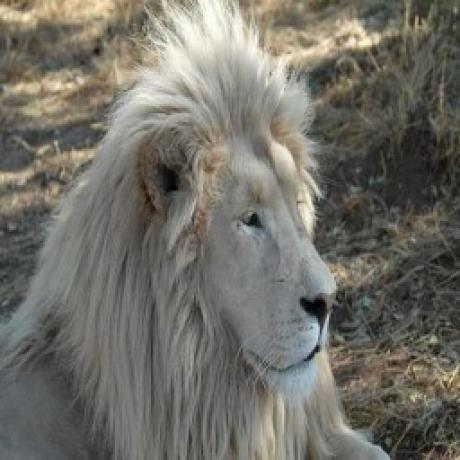Lion: (0, 0, 395, 460)
